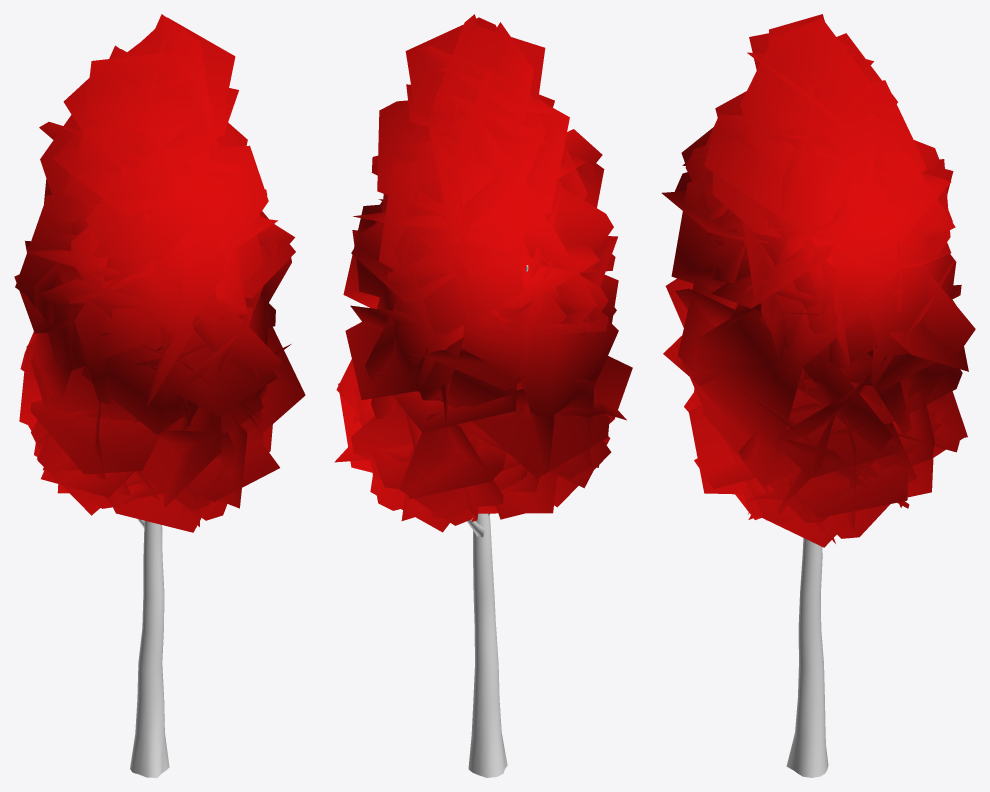
The model's file is SM_tree_03.FBX.
3 renders of one model, left to right at view 1: azimuth 30°, elevation 25°; view 2: azimuth 150°, elevation 25°; view 3: azimuth 270°, elevation 25°, orthographic.
Visible parts, largest first — view 1: SM_tree_03_LOD0; view 2: SM_tree_03_LOD0; view 3: SM_tree_03_LOD0.
Part boxes in pixels (bbox=[...]): SM_tree_03_LOD0: bbox=[14, 14, 305, 777]; SM_tree_03_LOD0: bbox=[334, 14, 632, 777]; SM_tree_03_LOD0: bbox=[661, 14, 975, 777].
Size of what is drawn, in the model's own units: 422 by 443 by 1181.
